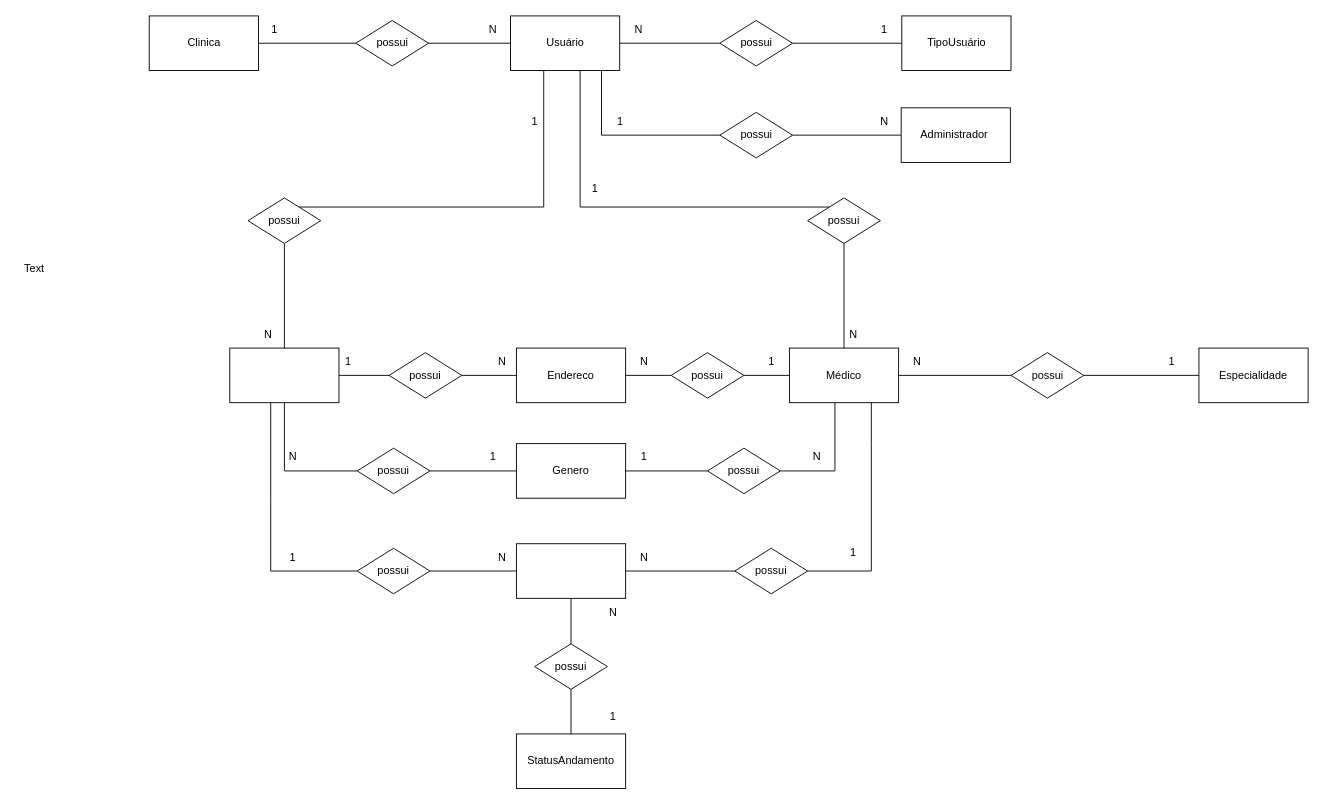
The diagram is 1324 pixels wide and 804 high, and some of its shapes have lost their labels. Here are the shapes that lost their labels. From the top down, the centre of each, then its label:
(x=284, y=375): Paciente
(x=571, y=570): Consulta
